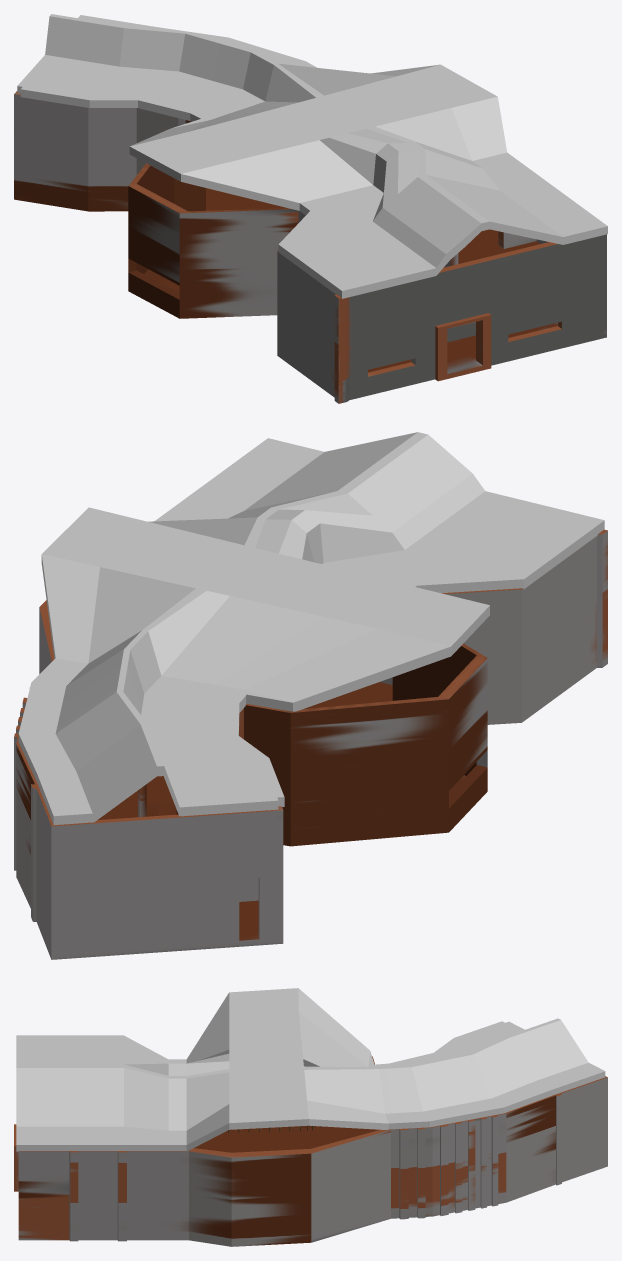
Rendered from Barracks.fbx.
3 renders of one model, top to bottom at view 1: azimuth 30°, elevation 25°; view 2: azimuth 150°, elevation 25°; view 3: azimuth 270°, elevation 25°, orthographic. The views are drawn at different scales.
Visible parts, largest first — view 1: Roof, Barracks; view 2: Roof, Barracks; view 3: Roof, Barracks.
Boxes of the visible parts, x1,y1,x2,y2 form: Roof: (17, 14, 607, 298); Barracks: (14, 91, 606, 403); Roof: (18, 432, 604, 825); Barracks: (14, 529, 607, 959); Roof: (16, 988, 605, 1151); Barracks: (14, 1056, 607, 1246).
Bounding box in the file's own units: 14258 × 6265 × 26470.
